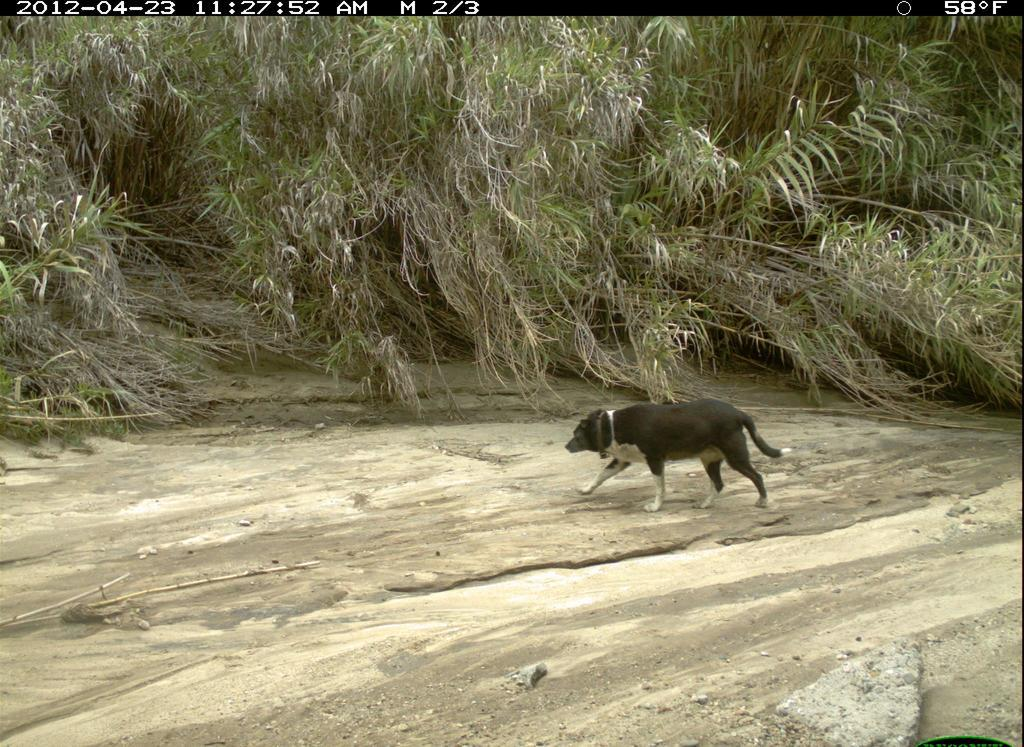dog: (560, 393, 800, 528)
